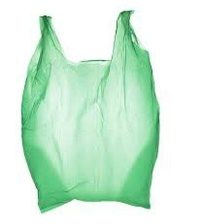plastic_bag: (16, 7, 162, 215)
